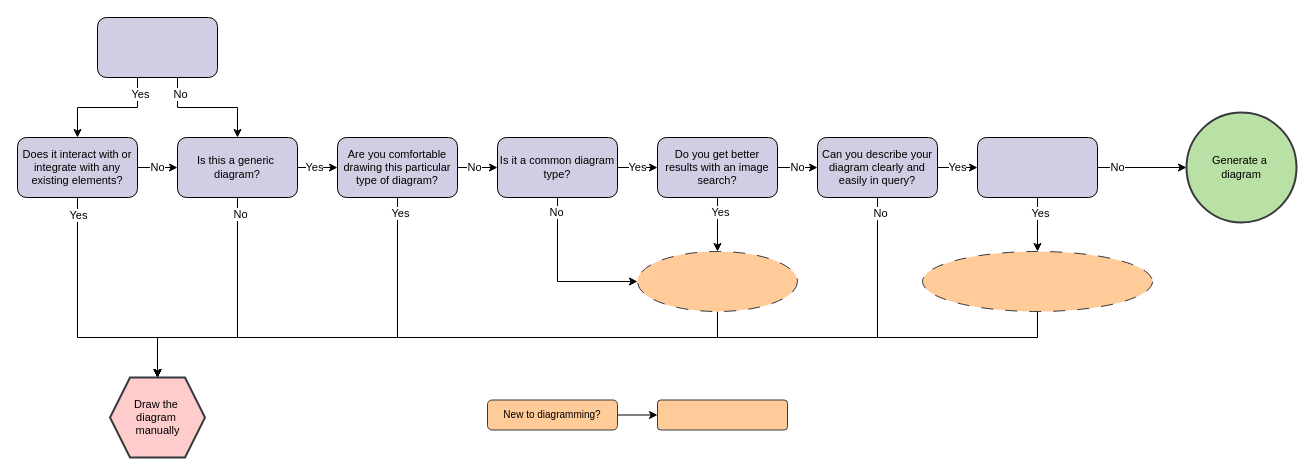
Some shapes in this 1315 by 476 pixel diagram are drawn without their labels. The shapes that lost their labels are listed below. From the top down, each one's box as (x1, y1, x2, y2) in pixels, then its label:
(96, 16, 218, 78): Are you whiteboarding a new system, process or interface?
(976, 136, 1098, 198): Do you need to use specific shapes or styles in your diagram?
(636, 250, 798, 312): Use image search results or draw.io examples as inspiration
(922, 250, 1152, 312): Check the draw.io template library and enable the appropriate shape libraries
(656, 399, 788, 430): Get started with draw.io
